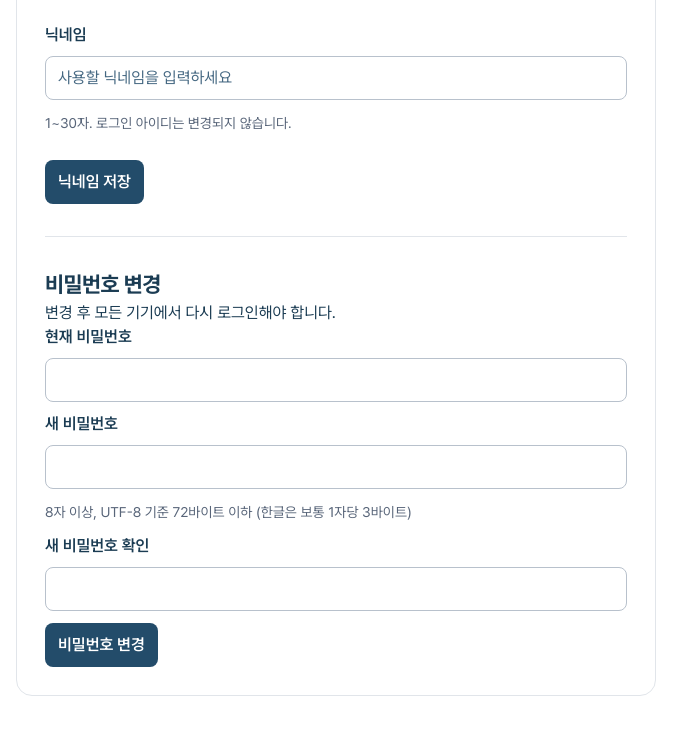
Test: 비밀번호 서버 거절 시 입력과 로그인 상태를 보존하고 원인을 안내한다
(page scrolled)
Step 1. Type "wrong-password" into the password field with id "current-password" → (336, 380), box [45,358,627,402]
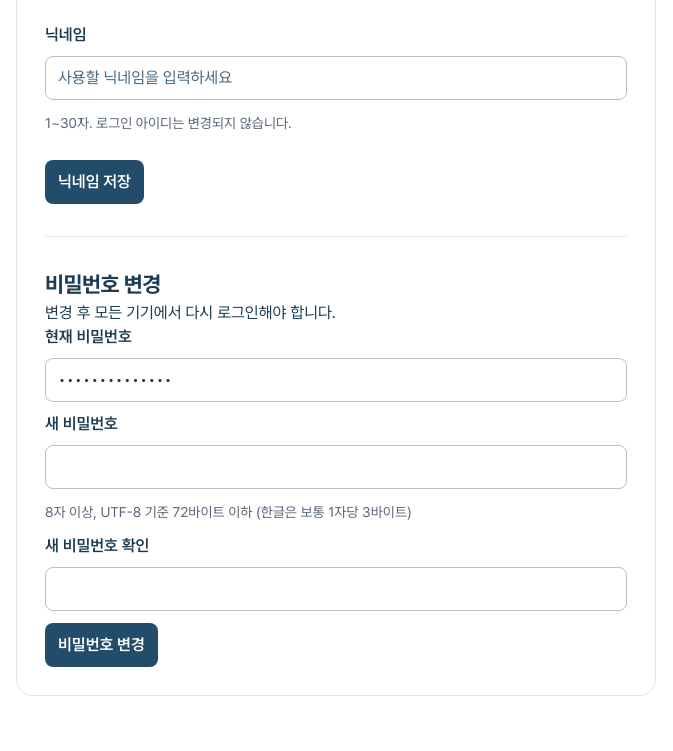
Step 2. Type "new-password" into the password field with id "new-password" → (336, 467), box [45,445,627,489]
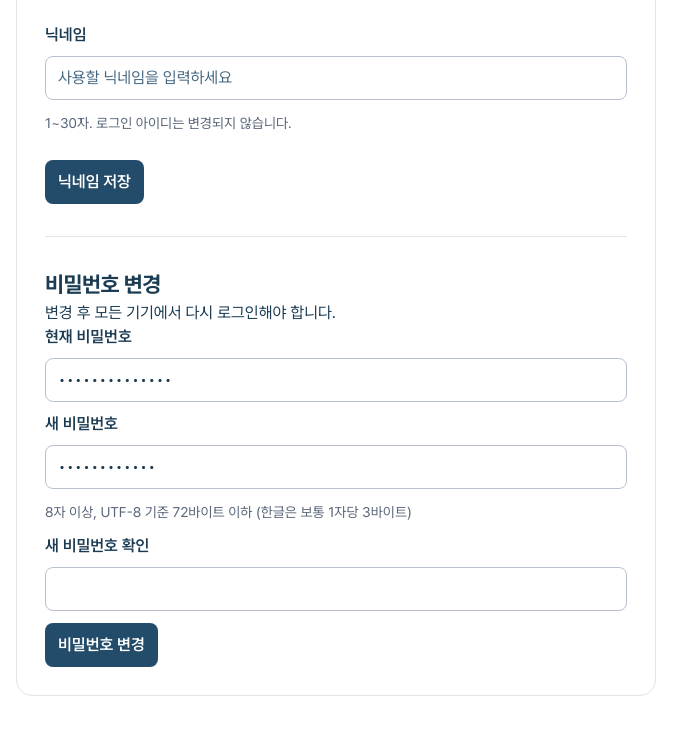
Step 3. Type "new-password" into the password field with id "confirm-password" → (336, 590), box [45,568,627,612]
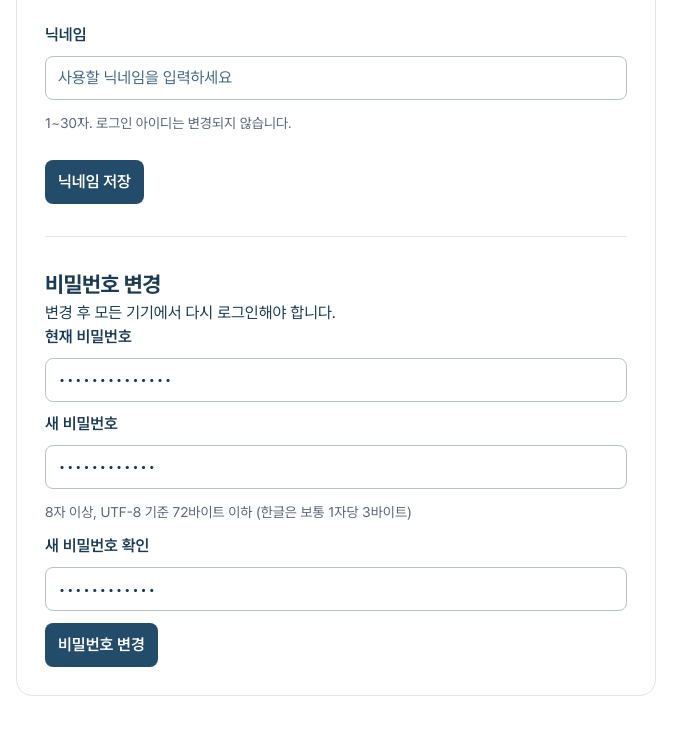
Step 4. Submit the form with test id "password-form", box [45,327,627,668]
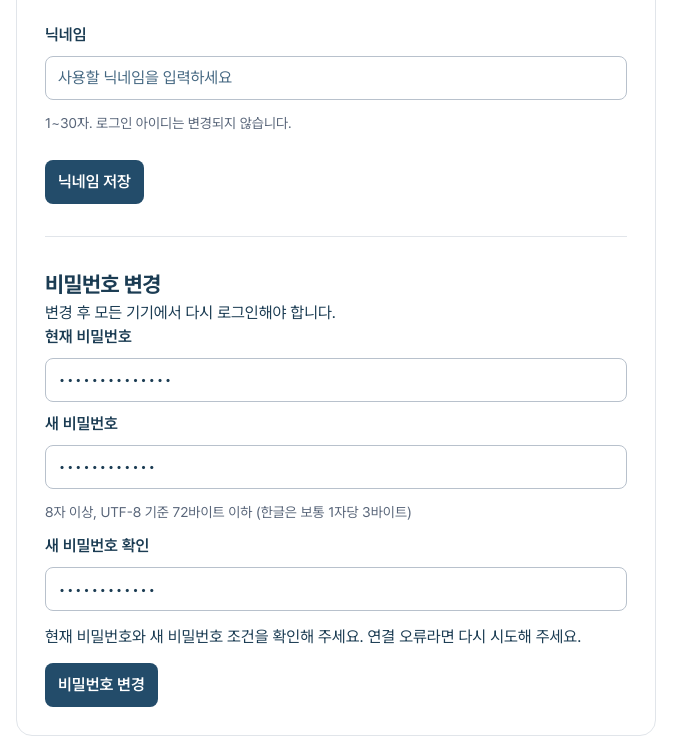
Expected: the text "현재 비밀번호와" is shown, [45,628,581,646]
